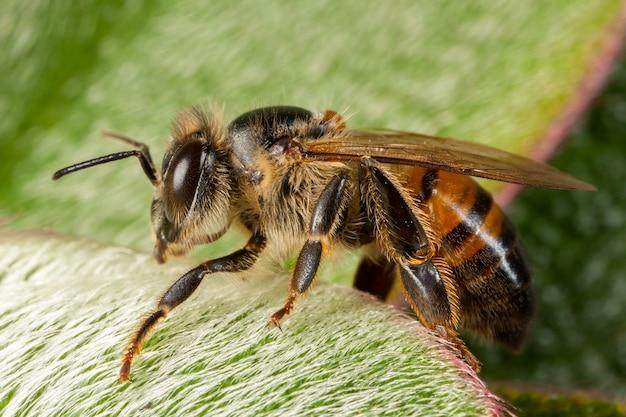Lasioglossum: (73, 86, 610, 394)
